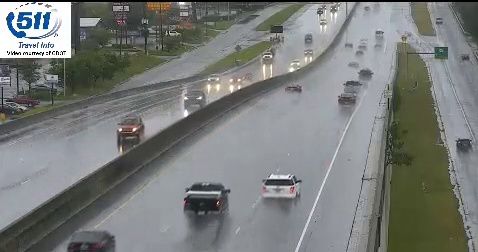car: (184, 183, 228, 213), (69, 231, 115, 252), (262, 175, 300, 200), (344, 79, 362, 93), (338, 93, 355, 107)
